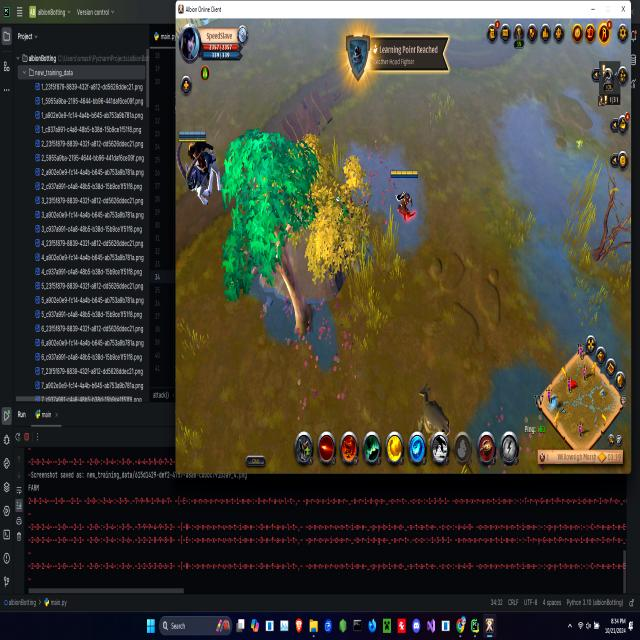hide: (328, 193, 349, 224)
ore: (412, 377, 453, 449)
red: (177, 124, 226, 214), (385, 164, 427, 230)
wisp caged: (219, 131, 323, 337)
